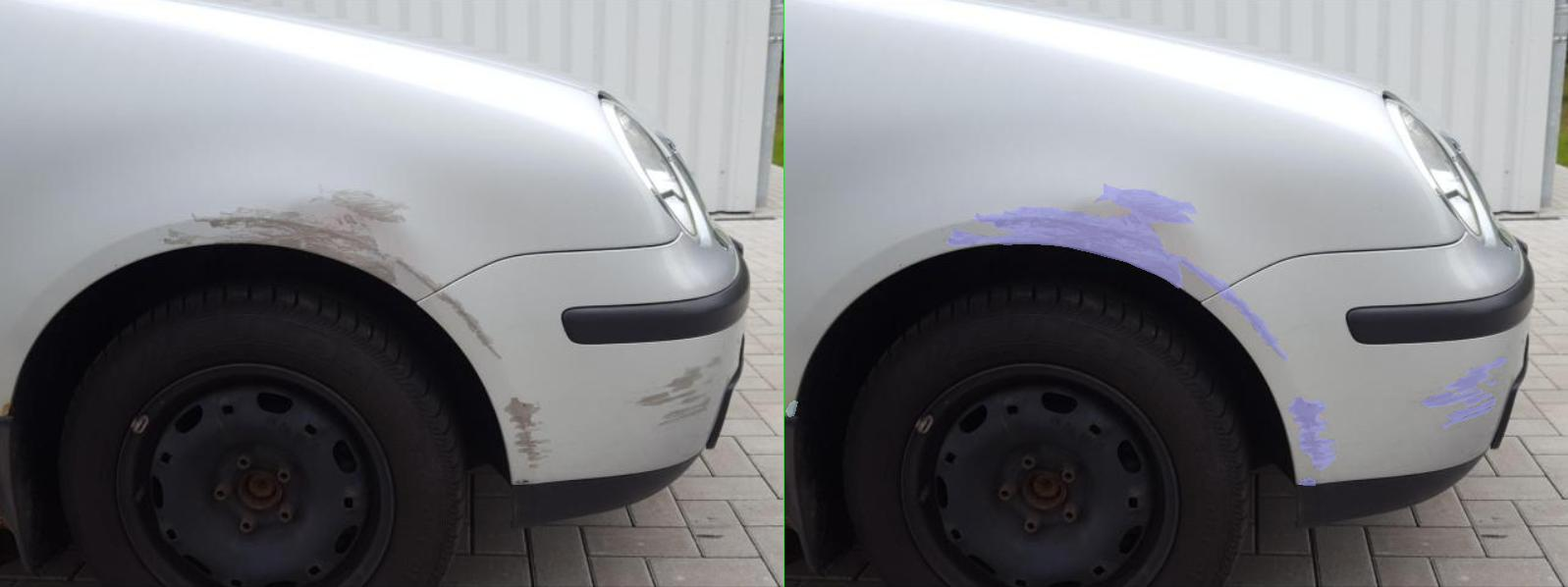Corrosion: (2, 400, 26, 416)
Scratch: (326, 206, 794, 288), (786, 256, 1006, 360), (625, 184, 825, 223), (1006, 398, 1106, 469), (1318, 357, 1444, 393), (1316, 407, 1417, 428), (1273, 389, 1395, 406), (1324, 398, 1423, 418), (1358, 393, 1415, 405), (1030, 478, 1061, 485), (1403, 380, 1423, 385)
